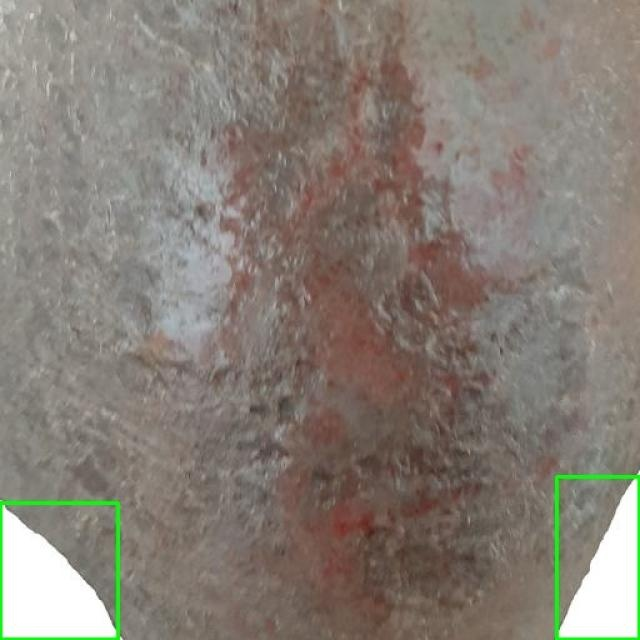Contact Dermatitis: (0, 502, 119, 639), (556, 476, 639, 639)
